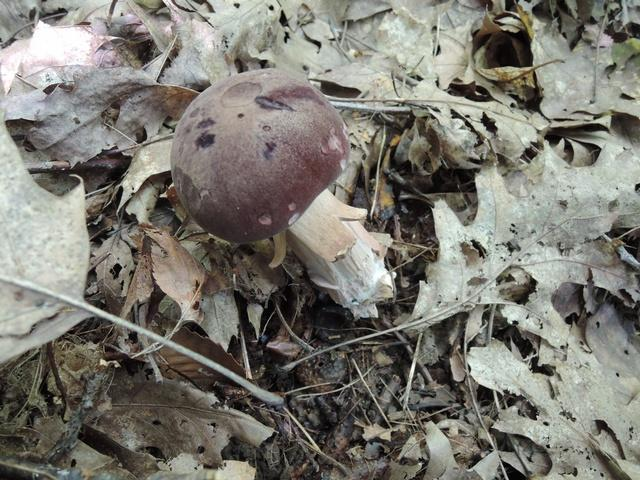Non-edible Mushroom: (168, 66, 395, 318)
